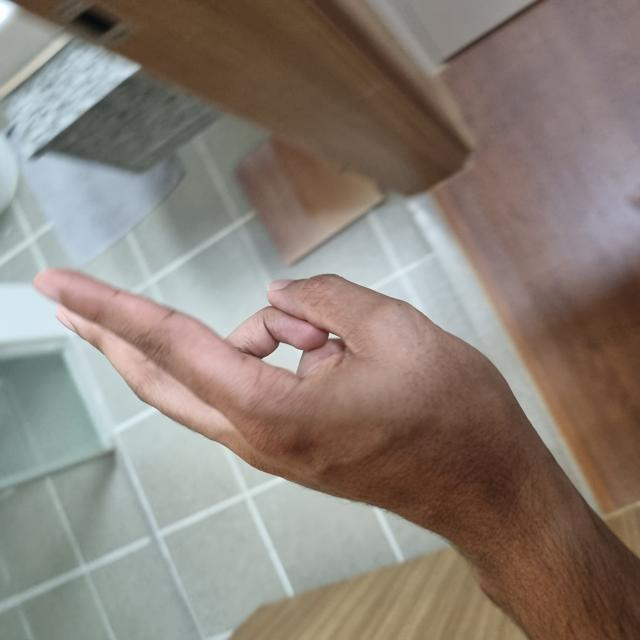Scissors: (113, 30, 375, 517)
